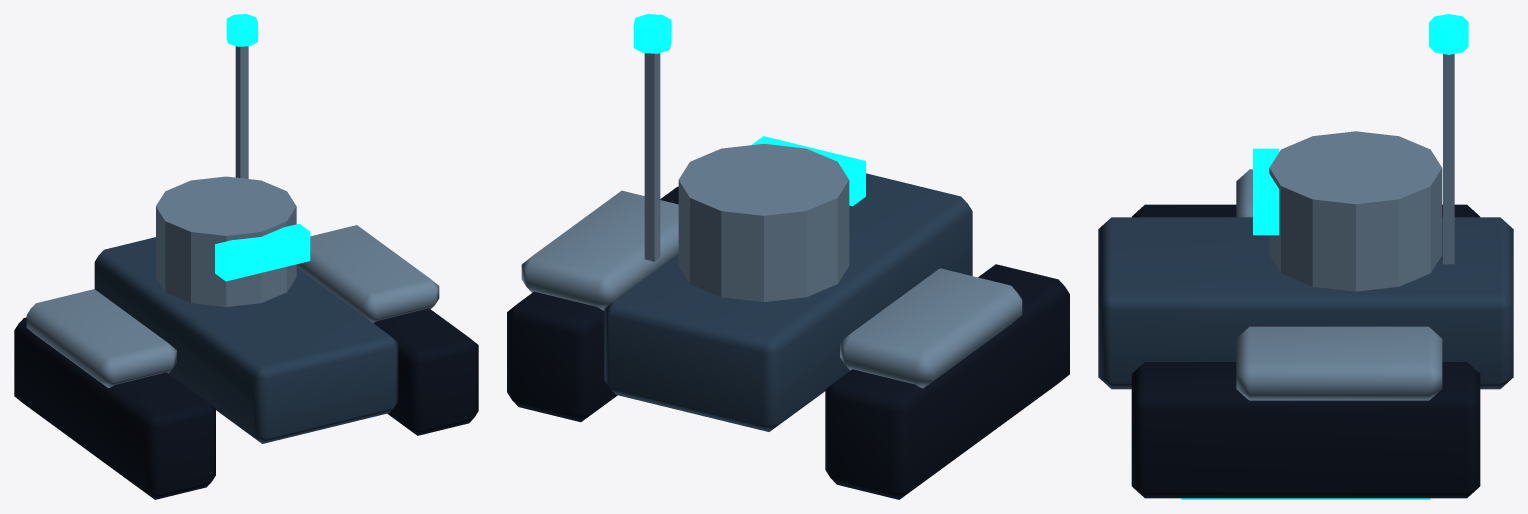
Rendered from scout.glb.
3 renders of one model, left to right at view 1: azimuth 30°, elevation 25°; view 2: azimuth 150°, elevation 25°; view 3: azimuth 270°, elevation 25°, orthographic. The views are drawn at different scales.
Visible parts, largest first — view 1: Recon keel, Hover nacelle, Sensor gimbal, Hover nacelle.001, Nacelle armor, Nacelle armor.001, Optical array, Antenna mast, Mast beacon; view 2: Recon keel, Hover nacelle, Sensor gimbal, Nacelle armor, Hover nacelle.001, Nacelle armor.001, Antenna mast, Mast beacon, Optical array; view 3: Recon keel, Hover nacelle.001, Sensor gimbal, Nacelle armor.001, Antenna mast, Optical array, Hover nacelle, Mast beacon, Nacelle armor, Lift rail.001.
Part boxes in pixels (<box>): Recon keel: <box>94,237,398,443</box>; Hover nacelle: <box>14,317,215,499</box>; Sensor gimbal: <box>156,176,296,306</box>; Hover nacelle.001: <box>373,308,478,435</box>; Nacelle armor: <box>26,289,176,387</box>; Nacelle armor.001: <box>296,225,439,323</box>; Optical array: <box>215,223,310,281</box>; Antenna mast: <box>235,46,248,178</box>; Mast beacon: <box>226,14,257,46</box>; Recon keel: <box>604,173,972,431</box>; Hover nacelle: <box>825,264,1069,499</box>; Sensor gimbal: <box>678,143,849,301</box>; Nacelle armor: <box>840,268,1022,388</box>; Hover nacelle.001: <box>507,186,678,422</box>; Nacelle armor.001: <box>521,190,678,310</box>; Antenna mast: <box>644,53,660,261</box>; Mast beacon: <box>633,14,671,53</box>; Optical array: <box>751,136,865,206</box>; Recon keel: <box>1098,217,1513,389</box>; Hover nacelle.001: <box>1131,362,1480,498</box>; Sensor gimbal: <box>1269,131,1442,291</box>; Nacelle armor.001: <box>1236,326,1442,400</box>; Antenna mast: <box>1443,54,1454,264</box>; Optical array: <box>1253,148,1279,235</box>; Hover nacelle: <box>1132,204,1479,217</box>; Mast beacon: <box>1429,14,1468,54</box>; Nacelle armor: <box>1236,169,1252,217</box>; Lift rail.001: <box>1181,498,1430,499</box>.
Bounding box in the file's own units: 1.45 × 1.39 × 1.25.
